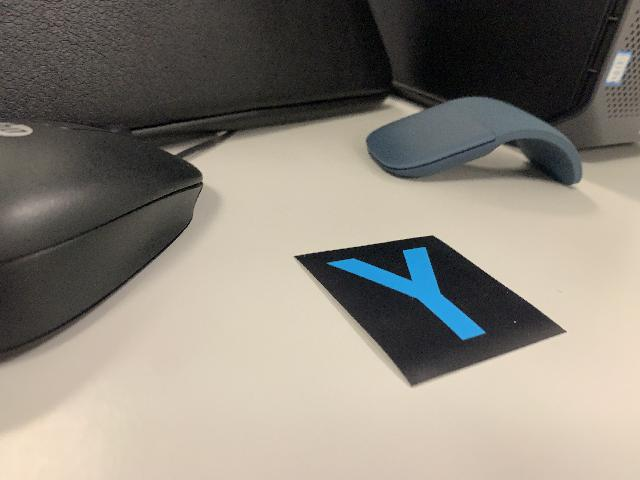y: (290, 234, 569, 390)
